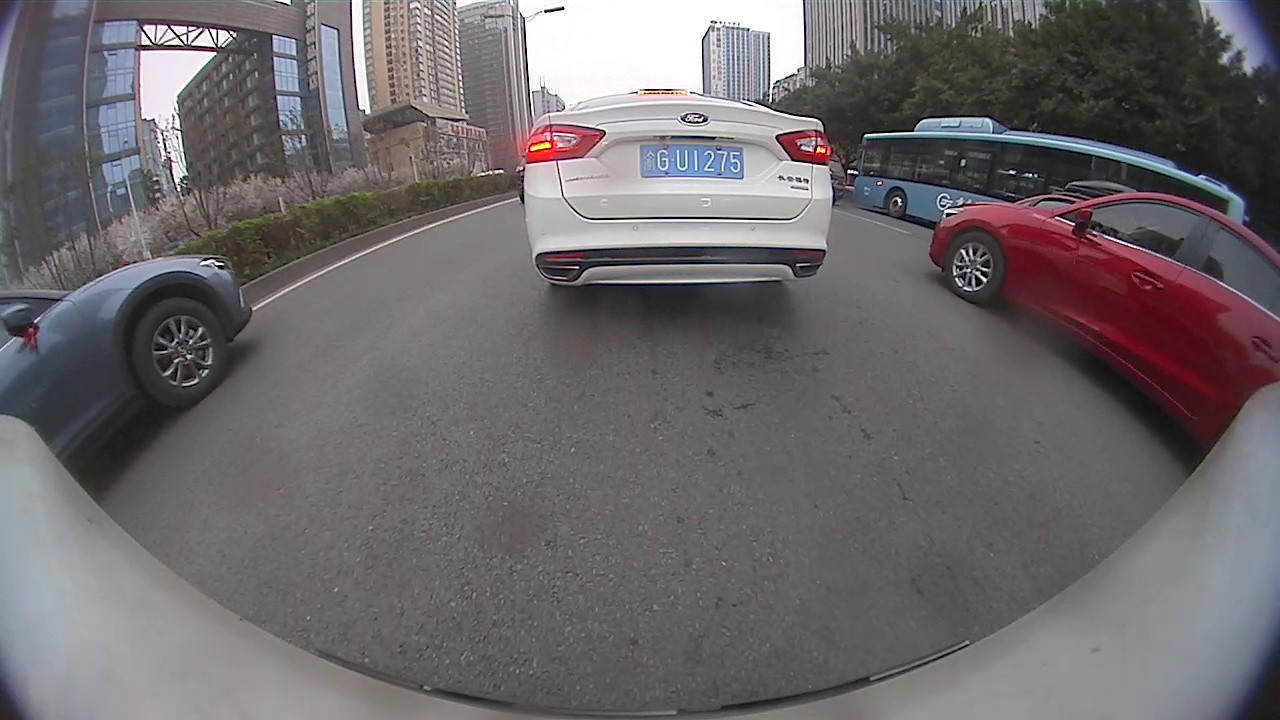bus: (850, 117, 1248, 225)
car: (928, 192, 1277, 448), (527, 89, 833, 286), (0, 256, 252, 470), (1017, 190, 1082, 210), (833, 157, 846, 203), (516, 149, 524, 206)
front: (131, 296, 229, 407), (943, 229, 1003, 304), (885, 189, 908, 218)
